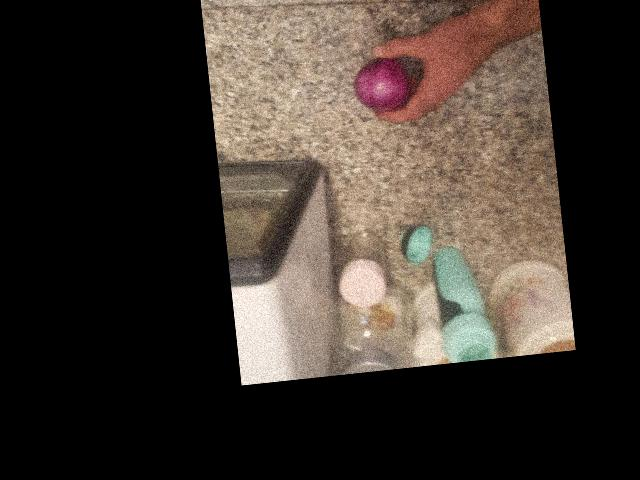onion: (355, 54, 414, 113)
